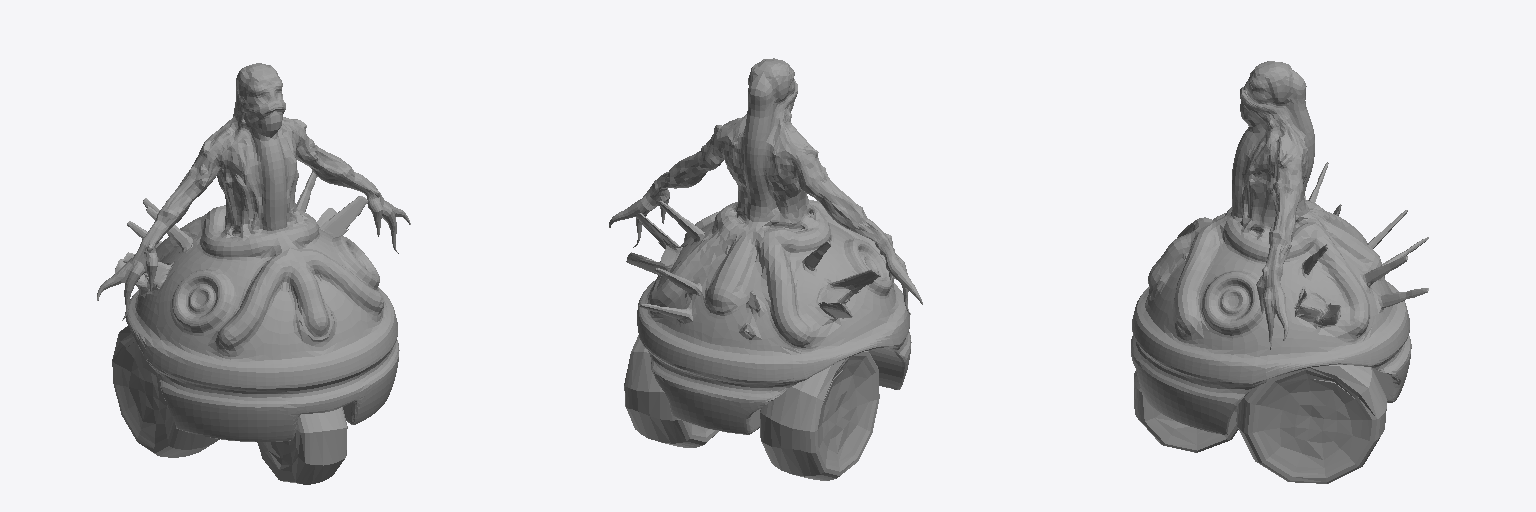
3 renders of one model, left to right at view 1: azimuth 30°, elevation 25°; view 2: azimuth 150°, elevation 25°; view 3: azimuth 270°, elevation 25°, orthographic.
Visible parts, largest first — view 1: body_body_and_middle_whel.003, back_wheels_left_wheel.001, front_wheel_body_and_middle_whel.002; view 2: body_body_and_middle_whel.003, back_wheels_left_wheel.001; view 3: body_body_and_middle_whel.003, back_wheels_left_wheel.001, front_wheel_body_and_middle_whel.002.
Part boxes in pixels (x1,y1,x2,y2): body_body_and_middle_whel.003: (97,63,410,441); back_wheels_left_wheel.001: (112,326,219,457); front_wheel_body_and_middle_whel.002: (257,407,347,484); body_body_and_middle_whel.003: (609,58,922,434); back_wheels_left_wheel.001: (624,335,879,480); body_body_and_middle_whel.003: (1131,61,1428,434); back_wheels_left_wheel.001: (1236,306,1386,483); front_wheel_body_and_middle_whel.002: (1134,371,1238,452).
Size of the model in its own units: 5.69 by 6.65 by 4.69.